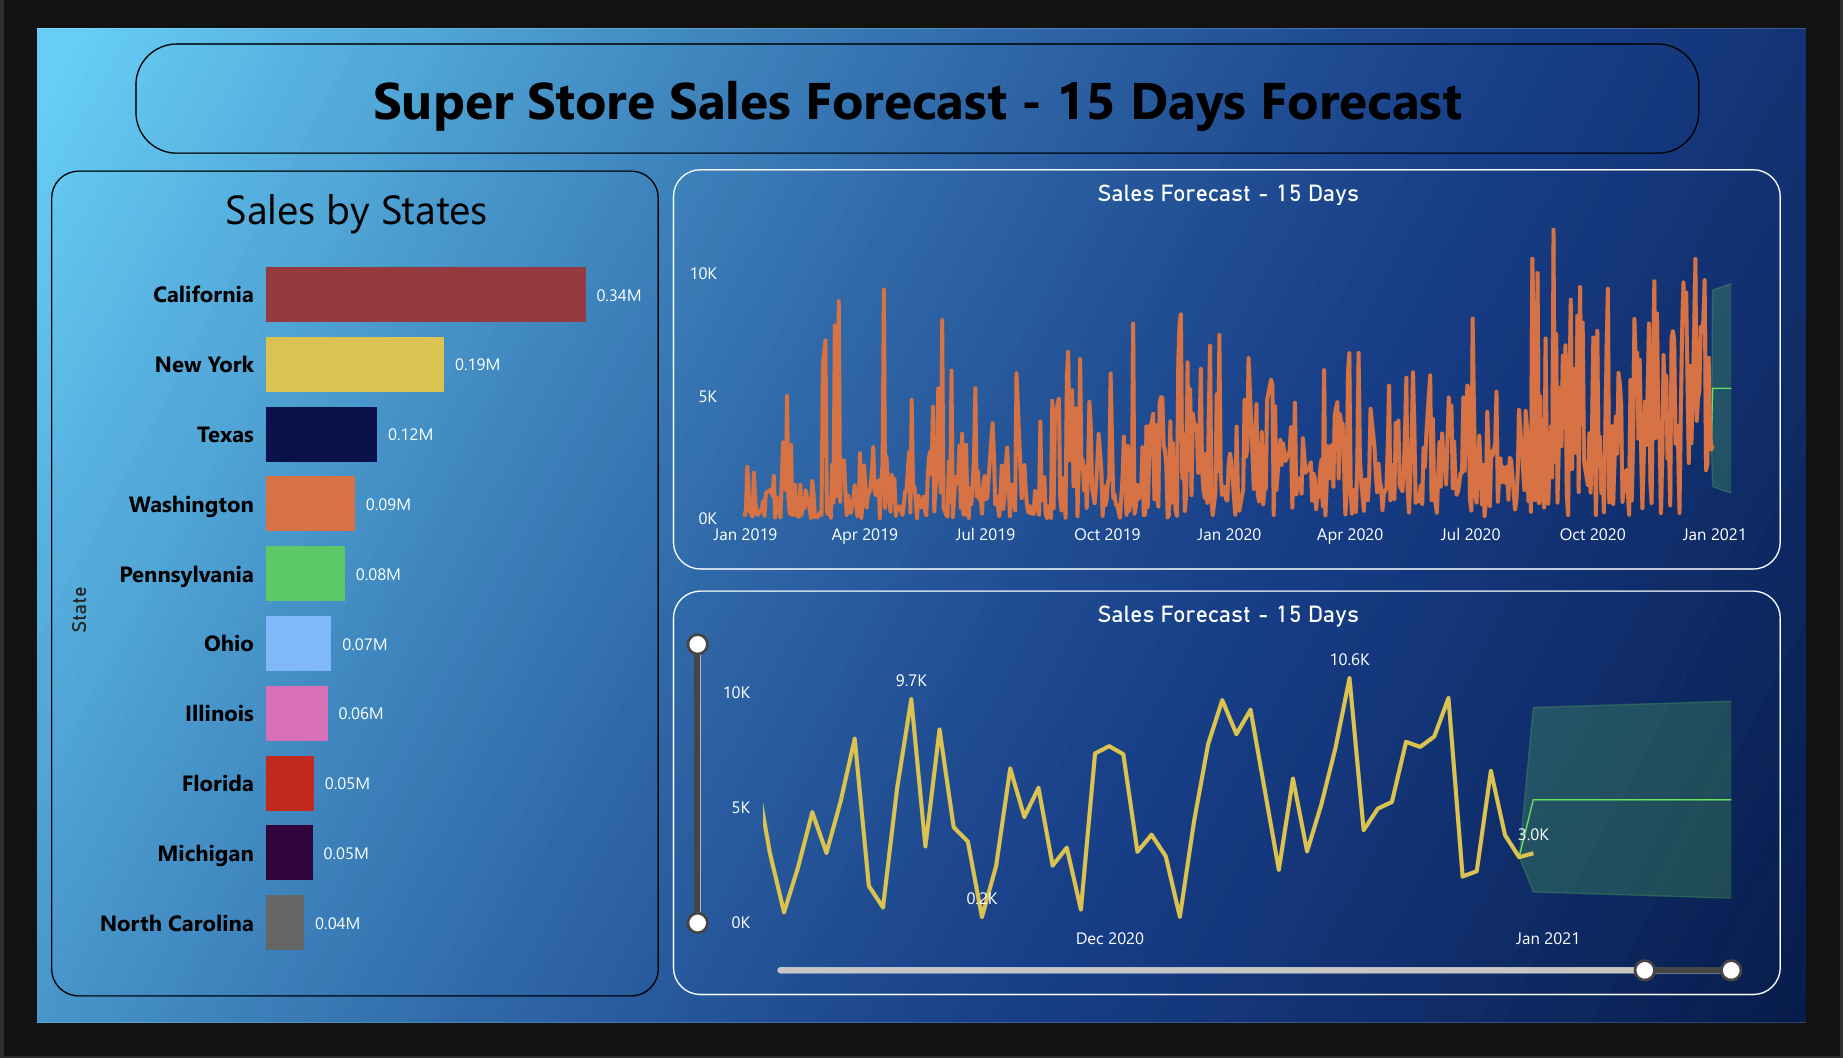

This screenshot's page, from the dashboard's own definition file:
{"tool":"powerbi","page":{"name":"Page 2","canvas":[1280,720],"ordinal":1},"visuals":[{"type":"lineChart","title":"Sales Forecast - 15 Days","fields":{"Y":["Sum(SuperStore_Sales_Dataset.Sales)"],"Category":["SuperStore_Sales_Dataset.Order Date"]},"box":[460.5,102.3,801.2,289.5],"z":0},{"type":"lineChart","title":"Sales Forecast - 15 Days","fields":{"Y":["Sum(SuperStore_Sales_Dataset.Sales)"],"Category":["SuperStore_Sales_Dataset.Order Date"]},"box":[460.5,407,801.2,293],"z":1000},{"type":"clusteredBarChart","title":"Sales by States","fields":{"Category":["SuperStore_Sales_Dataset.State"],"Y":["Sum(SuperStore_Sales_Dataset.Sales)"]},"box":[9.6,102.9,440.5,598.3],"z":2000},{"type":"textbox","box":[71.4,11,1132.1,79.6],"z":3000}]}

Visuals, with their boxes in screenshot pixels (x1, y1, x2, y2), scaled from the page's 1280x720 canvas onto the 1843x1058 screenshot:
"Sales Forecast - 15 Days" lineChart: bbox=(663, 150, 1817, 576)
"Sales Forecast - 15 Days" lineChart: bbox=(663, 598, 1817, 1029)
"Sales by States" clusteredBarChart: bbox=(14, 151, 648, 1030)
textbox: bbox=(103, 16, 1733, 133)
